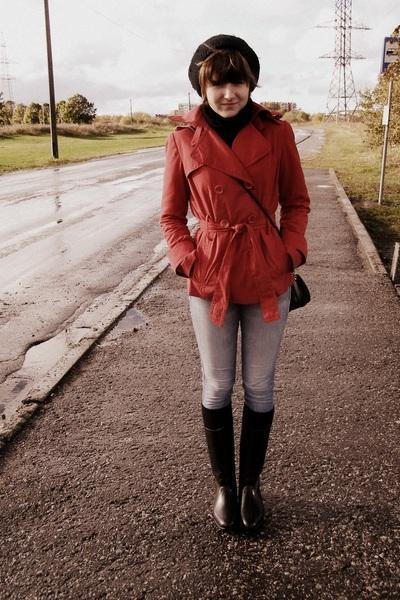bag: (289, 276, 310, 311)
hat: (189, 34, 258, 71)
jacket: (161, 111, 310, 323)
pants: (189, 300, 291, 412)
shoe: (202, 399, 275, 539)
